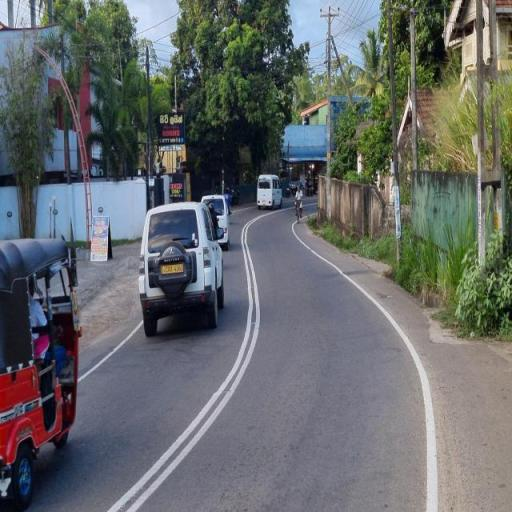double_white_line: (106, 232, 259, 510)
